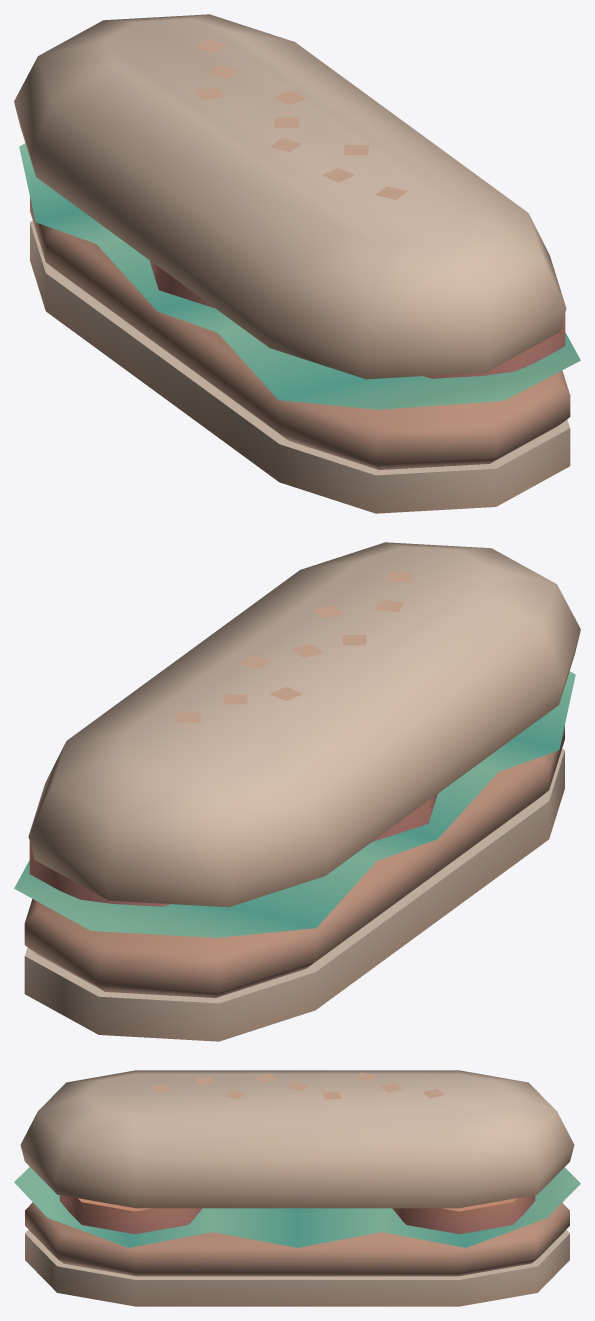
3 renders of one model, top to bottom at view 1: azimuth 30°, elevation 25°; view 2: azimuth 150°, elevation 25°; view 3: azimuth 270°, elevation 25°, orthographic. The views are drawn at different scales.
Visible parts, largest first — view 1: sub; view 2: sub; view 3: sub.
Part boxes in pixels (<box>): sub: <box>14,14,580,513</box>; sub: <box>14,542,580,1041</box>; sub: <box>14,1070,580,1306</box>.
Bounding box in the file's own units: 0.2827 × 0.2225 × 0.6756.
